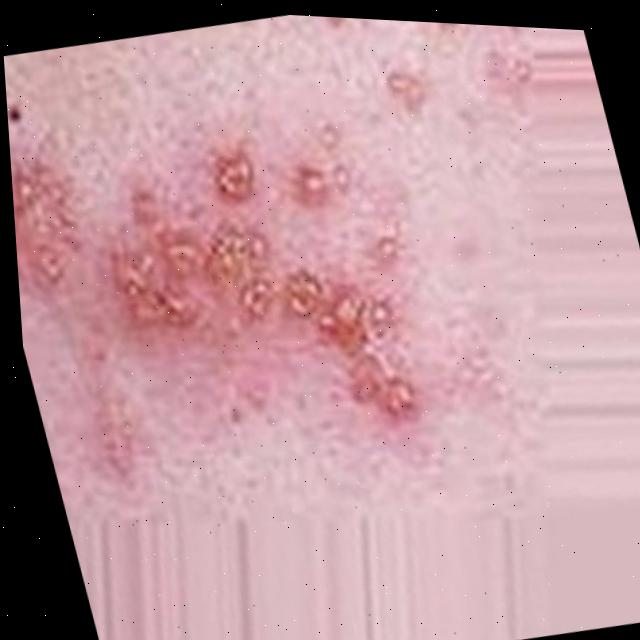Shingles: (7, 100, 463, 502)
